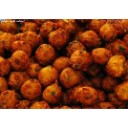bonda: (69, 48, 92, 72), (71, 85, 97, 105), (107, 54, 128, 78), (42, 81, 62, 104), (78, 27, 101, 46), (22, 79, 42, 98), (36, 44, 53, 65), (39, 65, 56, 86), (91, 46, 109, 65), (8, 69, 26, 88), (100, 23, 118, 41), (1, 90, 18, 109), (1, 33, 14, 56), (18, 32, 40, 45), (12, 53, 27, 70), (50, 31, 67, 46), (114, 82, 128, 100), (1, 58, 6, 70)
